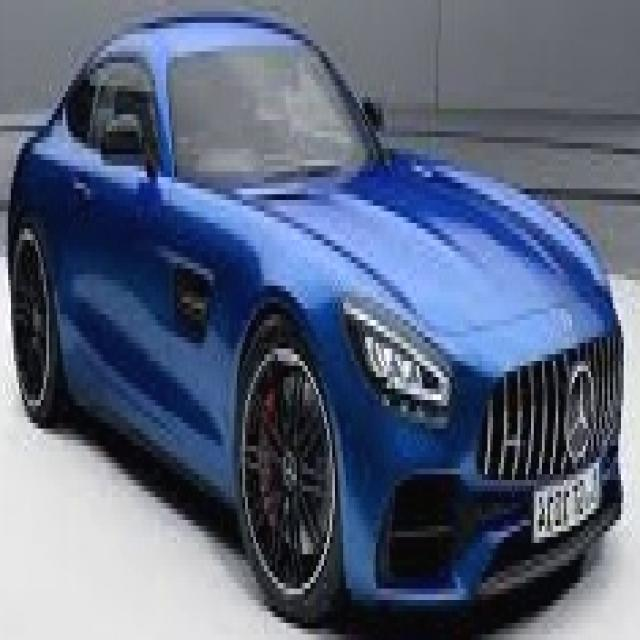blue: (7, 11, 626, 619)
